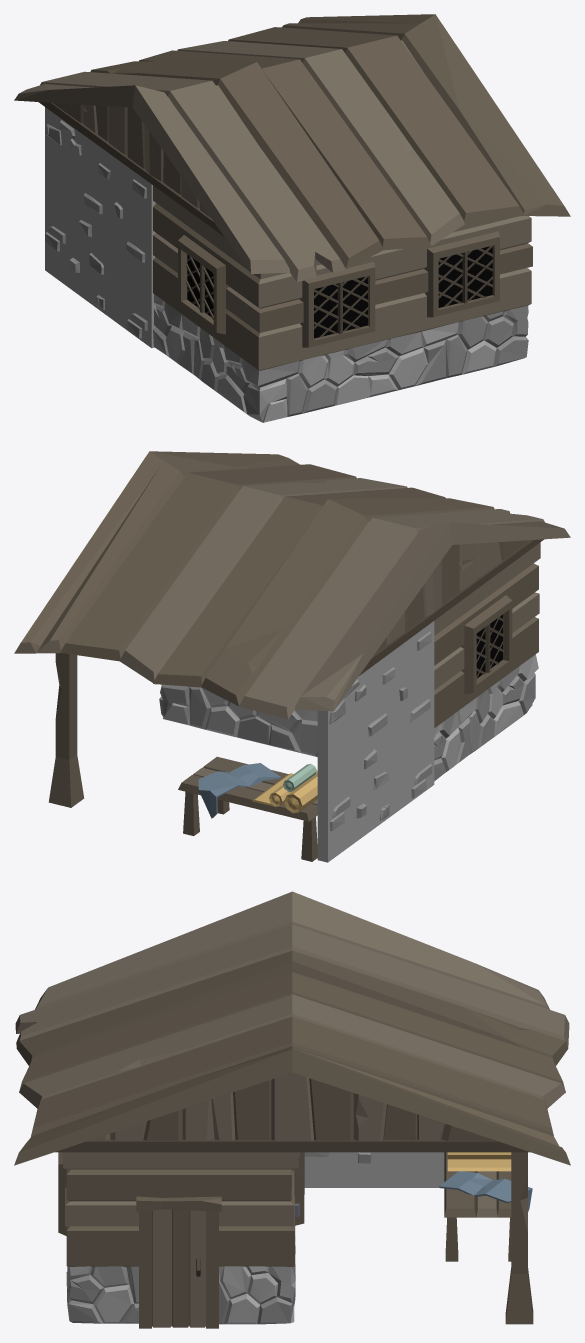
Rendered from Weaving_works_final.fbx.
3 views of the same model, one above another, from view 1: azimuth 30°, elevation 25°; view 2: azimuth 150°, elevation 25°; view 3: azimuth 270°, elevation 25° (orthographic). The views are drawn at different scales.
Parts seen in each view (by area): view 1: weaving_works; view 2: weaving_works; view 3: weaving_works.
Part boxes in pixels (<box>): weaving_works: <box>14,14,570,422</box>; weaving_works: <box>14,451,570,862</box>; weaving_works: <box>14,891,570,1328</box>.
Size of the model in its own units: 578 by 487 by 854.
